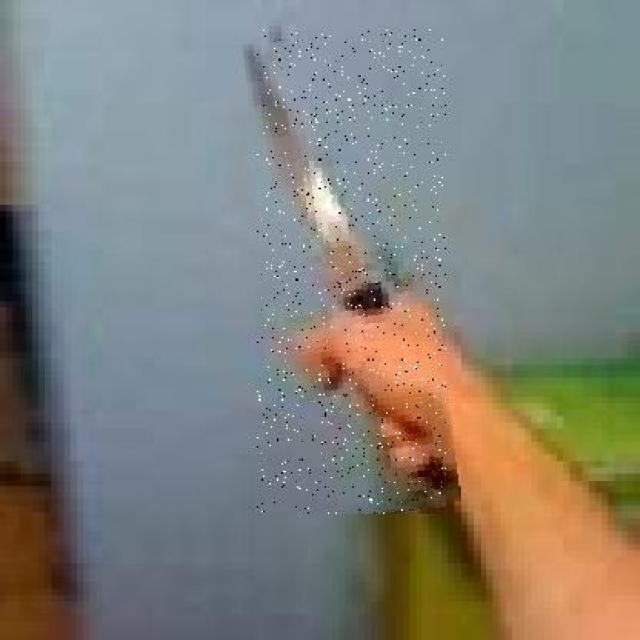knife: (257, 29, 446, 514)
